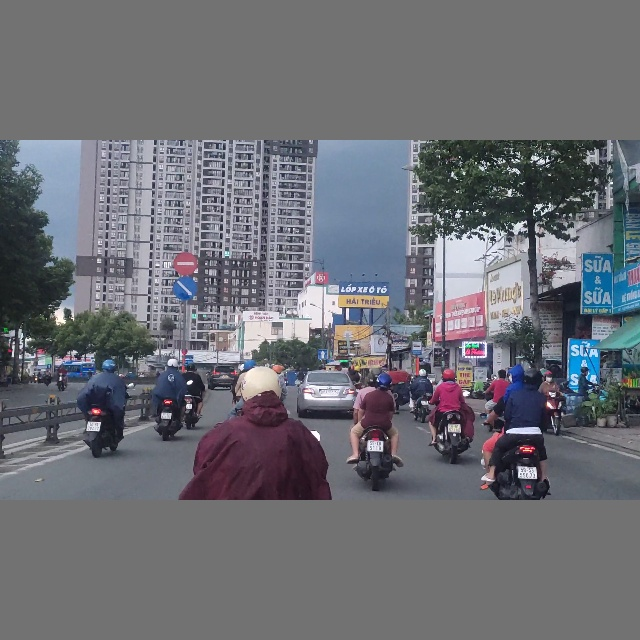I.407a: (318, 349, 328, 360)
I.434a: (411, 341, 422, 355)
P.102: (173, 252, 198, 275)
R.302a: (173, 276, 198, 300)
